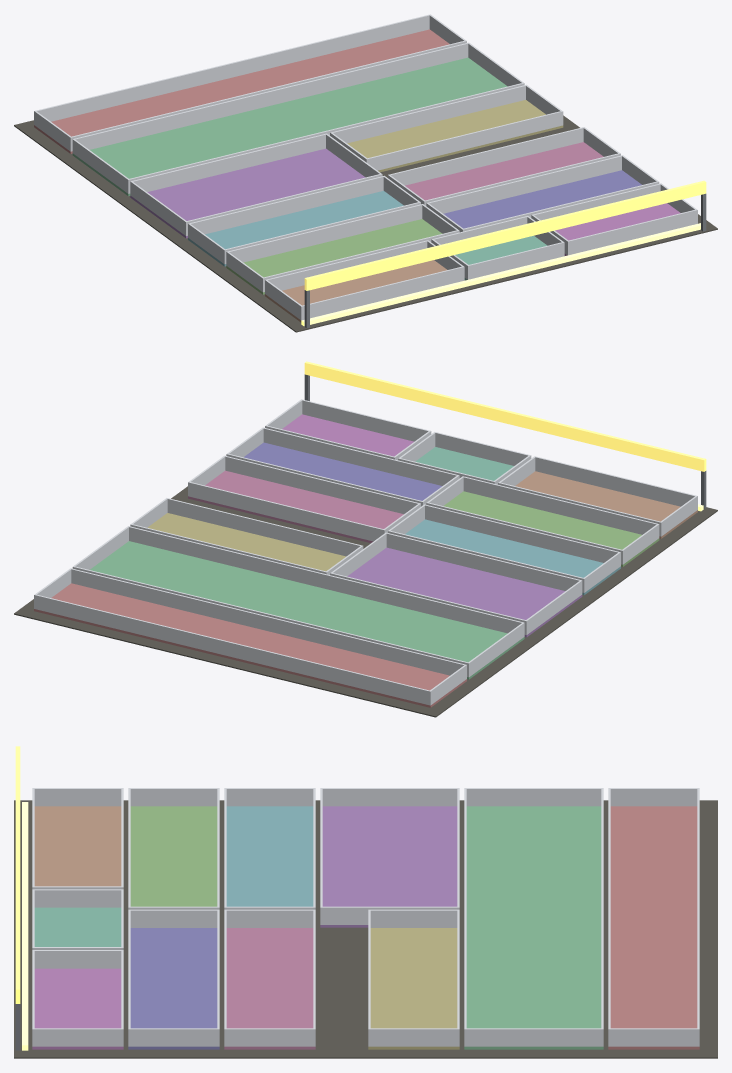
Rendered from hall-transmission.glb.
3 views of the same model, one above another, from view 1: azimuth 30°, elevation 25°; view 2: azimuth 150°, elevation 25°; view 3: azimuth 270°, elevation 25° (orthographic). The views are drawn at different scales.
Parts seen in each view (by area): view 1: Transmission Linemen; view 2: Transmission Linemen; view 3: Transmission Linemen.
Part boxes in pixels (x1,y1,x2,y2): Transmission Linemen: (14, 14, 717, 332); Transmission Linemen: (14, 361, 717, 717); Transmission Linemen: (14, 746, 717, 1058).
Size of the model in its own units: 38 by 4.3 by 44.
